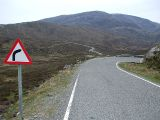Bend_to_right: (4, 37, 32, 65)
